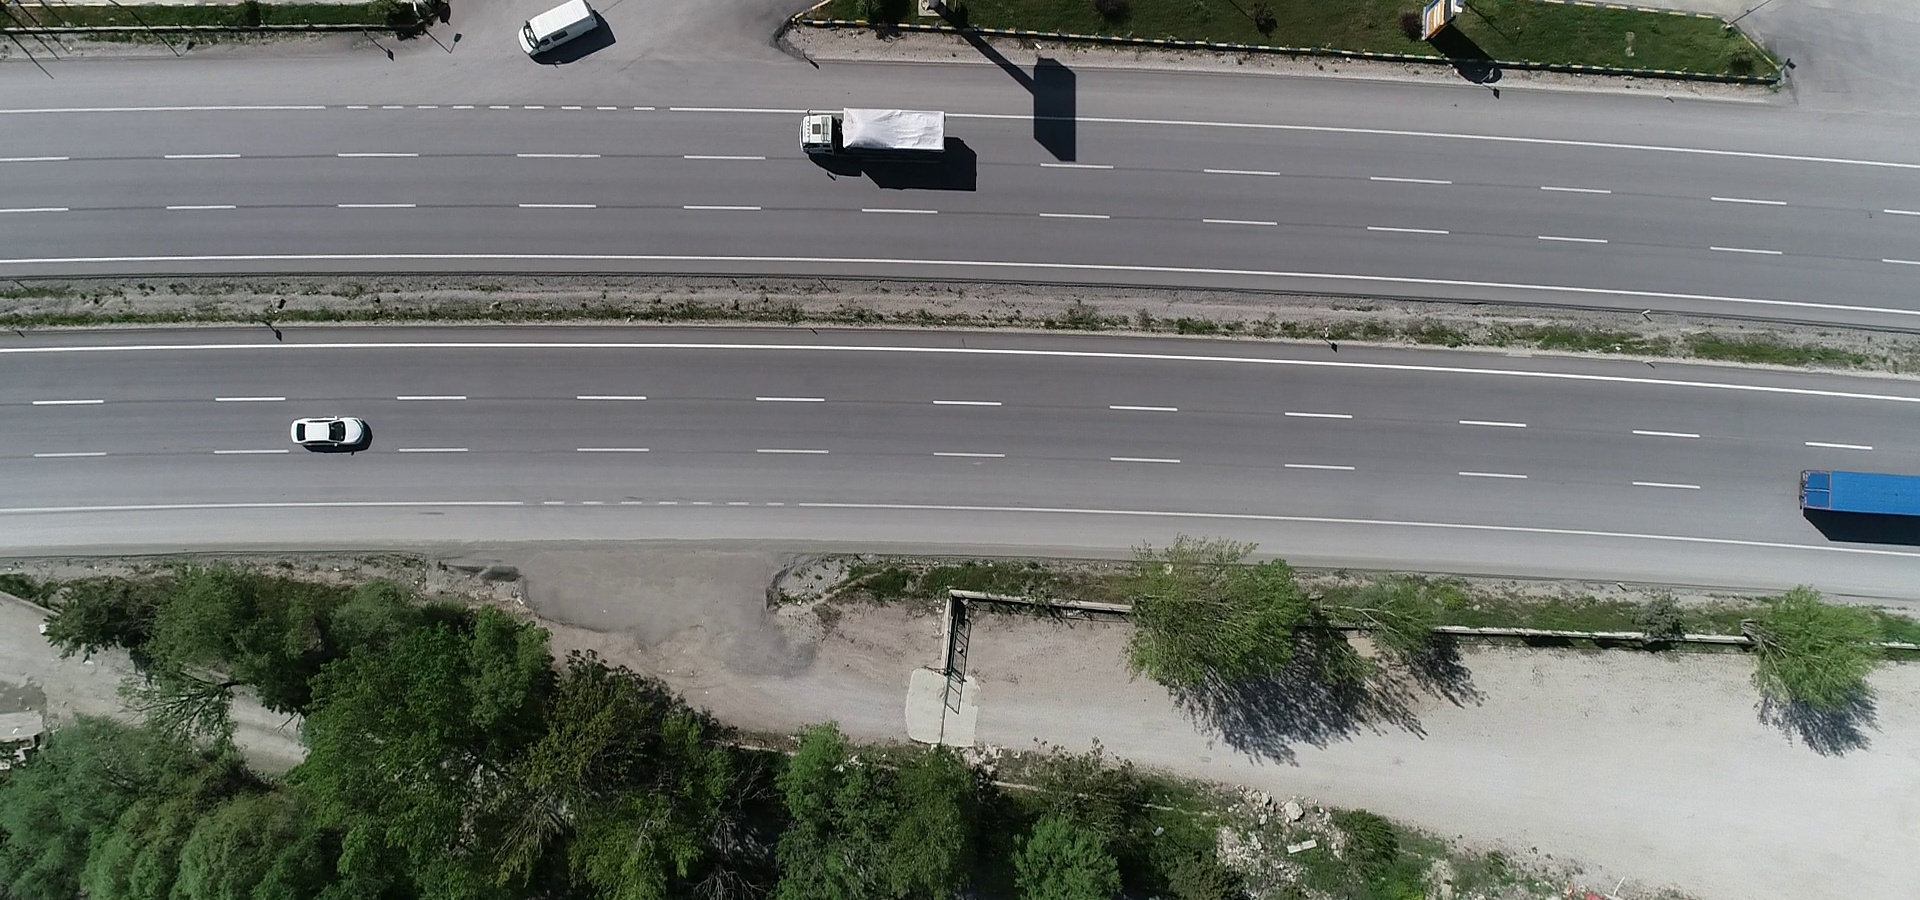arac: (793, 104, 966, 158), (1796, 465, 1920, 520), (516, 1, 611, 67), (280, 407, 383, 460)
